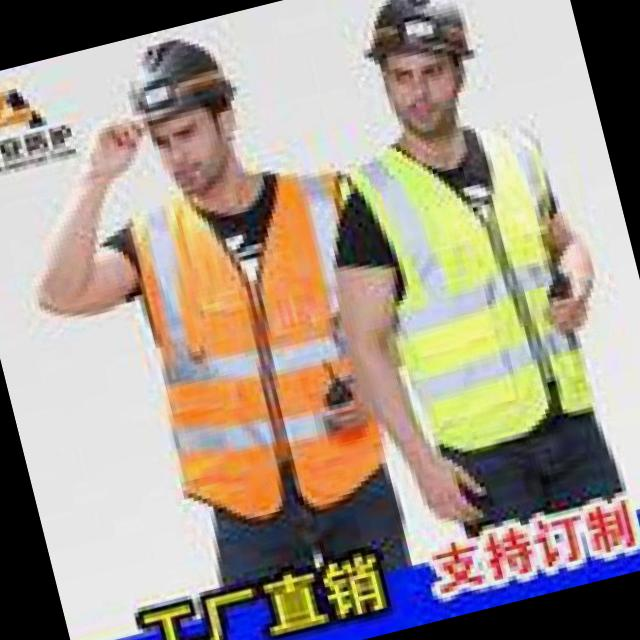vest: (126, 181, 396, 510), (364, 122, 602, 456)
